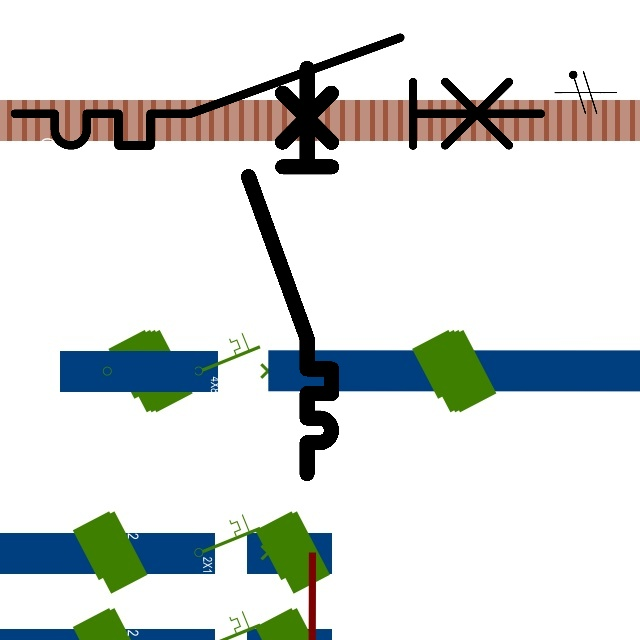interruptor_termomagnetico: (1, 24, 554, 159), (238, 58, 342, 484)
